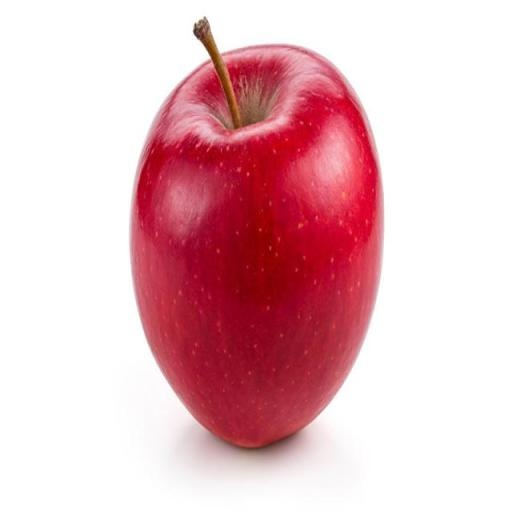fruit: (131, 46, 382, 447)
